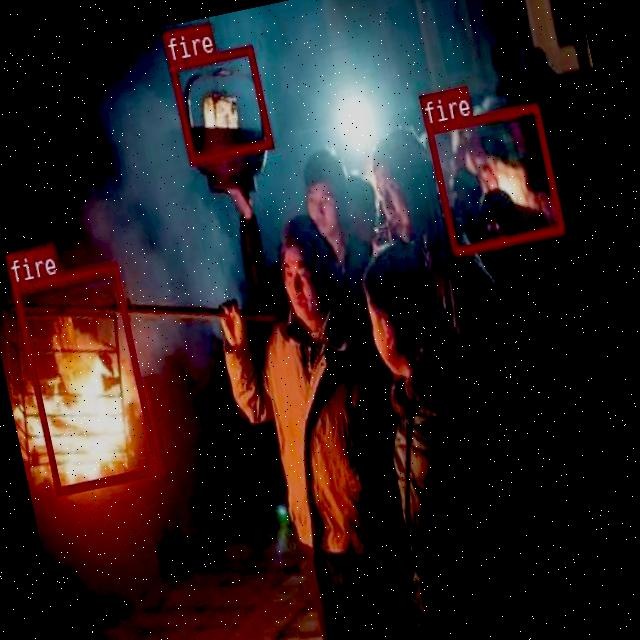fire: (10, 261, 160, 494), (424, 102, 564, 255), (168, 44, 272, 163)
